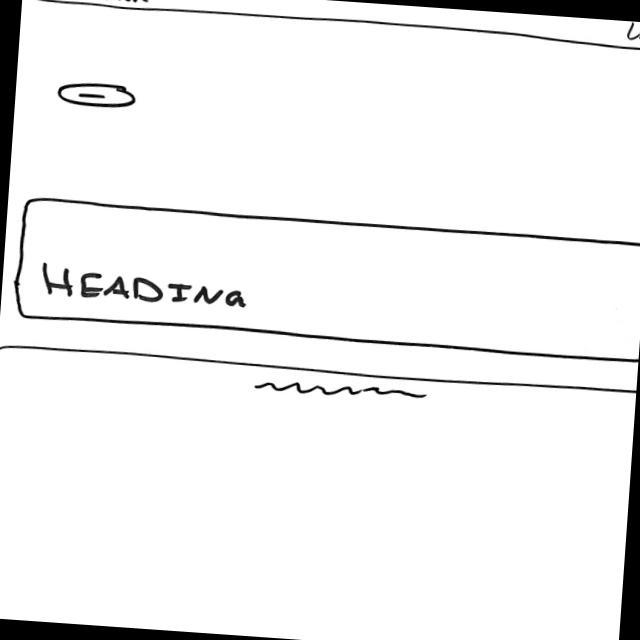container: (11, 195, 640, 364), (21, 0, 640, 53)
icon-button: (55, 80, 138, 112)
label: (38, 260, 252, 310), (42, 0, 153, 5), (622, 21, 640, 44)
text: (251, 377, 429, 403)
